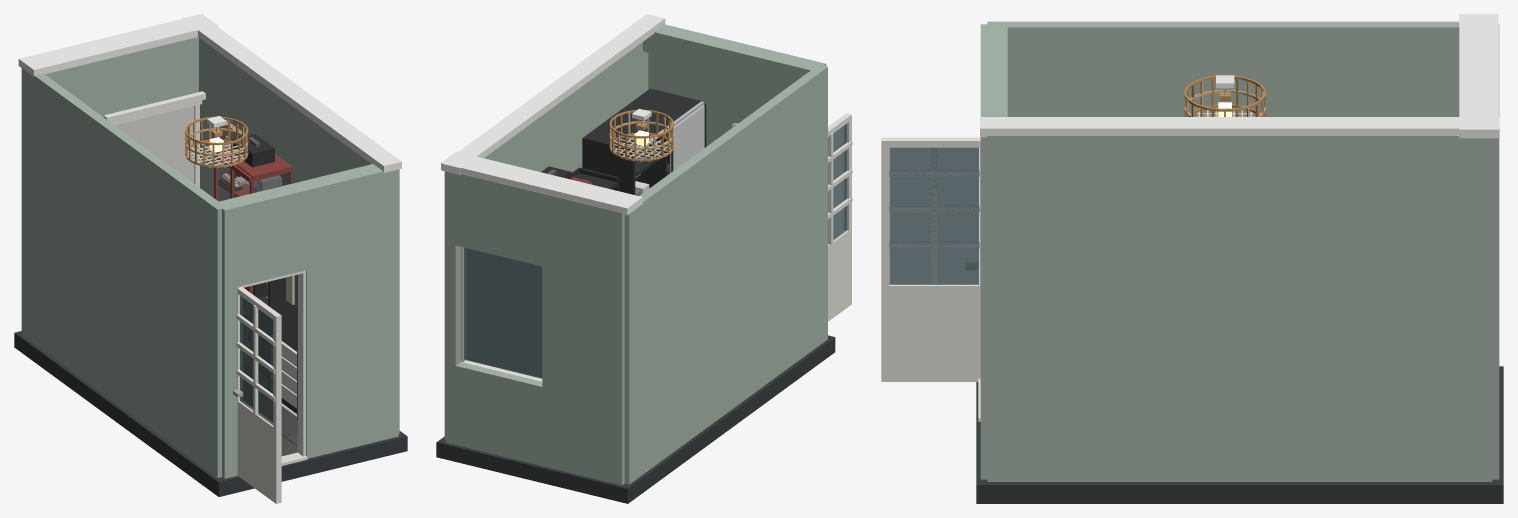
Rendered from mi_habitacion_base.glb.
3 views of the same model, side by side, from view 1: azimuth 30°, elevation 25°; view 2: azimuth 150°, elevation 25°; view 3: azimuth 270°, elevation 25° (orthographic). The views are drawn at different scales.
Parts seen in each view (by area): view 1: pared_larga_izquierda, pared_entrada_derecha, pared_larga_derecha, base_suelo, pared_entrada_sobre_puerta, techo_blanco_lateral, pared_sobre_ventana, pared_entrada_izquierda, techo_blanco_fondo, hoja_inferior, persiana_ventana, cristales_puerta (+10 smaller); view 2: pared_larga_izquierda, pared_fondo_izquierda, cristal_ventana, pared_larga_derecha, pared_bajo_ventana, base_suelo, pared_sobre_ventana, techo_blanco_lateral, pared_entrada_derecha, pared_entrada_viga_superior, techo_blanco_fondo, pared_fondo_derecha (+9 smaller); view 3: pared_larga_derecha, pared_larga_izquierda, base_suelo, cristales_puerta, hoja_inferior, techo_blanco_lateral, techo_blanco_fondo, pared_entrada_derecha, pared_fondo_derecha, hoja_lateral_2, pared_entrada_viga_superior, hoja_superior.
Boxes of the visible parts, x1,y1,x2,y2 form: pared_larga_izquierda: (21,68,225,477); pared_entrada_derecha: (301,168,398,458); pared_larga_derecha: (199,38,399,433); base_suelo: (14,331,407,496); pared_entrada_sobre_puerta: (234,186,306,286); techo_blanco_lateral: (182,14,401,172); pared_sobre_ventana: (107,38,192,114); pared_entrada_izquierda: (220,203,238,478); techo_blanco_fondo: (18,14,217,76); hoja_inferior: (237,401,275,502); persiana_ventana: (115,106,194,183); cristales_puerta: (240,296,273,424); pared_larga_izquierda: (624,64,827,484); pared_fondo_izquierda: (542,193,624,485); cristal_ventana: (464,247,542,378); pared_larga_derecha: (444,42,648,439); pared_bajo_ventana: (455,362,542,465); base_suelo: (436,335,835,503); pared_sobre_ventana: (455,173,542,266); techo_blanco_lateral: (442,14,665,175); pared_entrada_derecha: (648,24,742,146); pared_entrada_viga_superior: (643,28,820,86); techo_blanco_fondo: (441,151,642,215); pared_fondo_derecha: (445,172,460,444); pared_larga_derecha: (987,135,1492,481); pared_larga_izquierda: (987,21,1459,116); base_suelo: (976,366,1503,503); cristales_puerta: (889,147,979,284); hoja_inferior: (883,282,980,381); techo_blanco_lateral: (980,117,1499,137); techo_blanco_fondo: (1459,14,1498,138); pared_entrada_derecha: (980,76,994,479); pared_fondo_derecha: (1492,137,1499,479); hoja_lateral_2: (881,137,888,381); pared_entrada_viga_superior: (994,24,1007,116); hoja_superior: (883,137,980,147).
Size of the model in its own units: 2.28 by 3.34 by 5.05.
